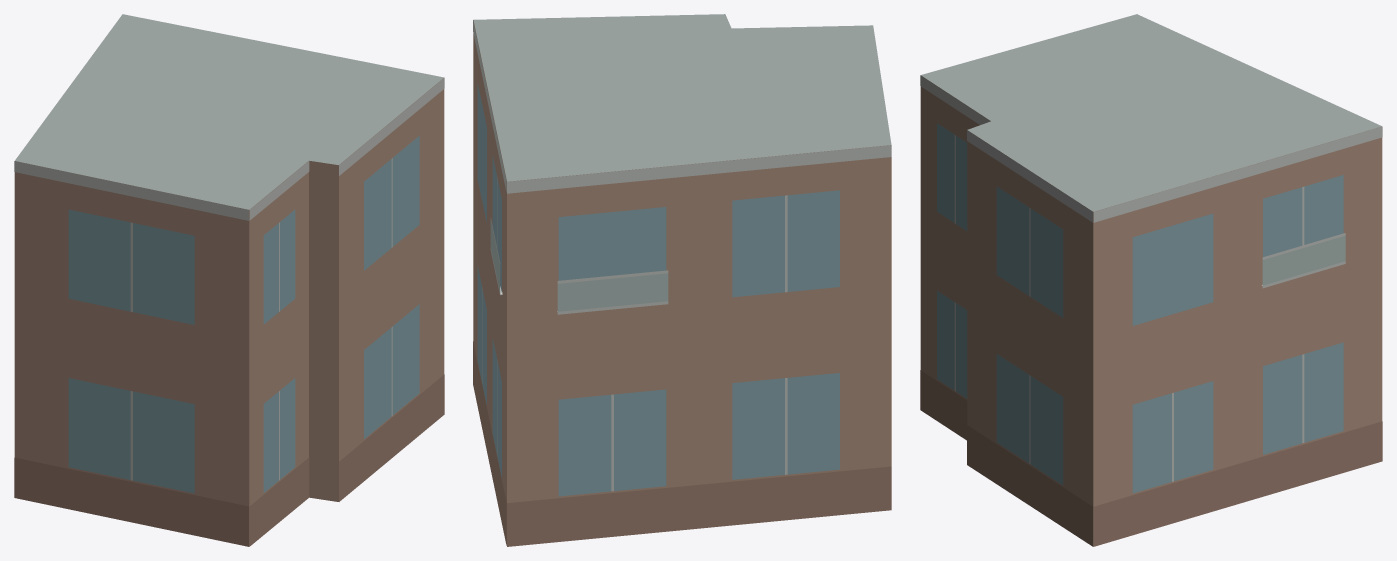
Rendered from survey-upis-32500609.glb.
3 renders of one model, left to right at view 1: azimuth 30°, elevation 25°; view 2: azimuth 150°, elevation 25°; view 3: azimuth 270°, elevation 25°, orthographic. The views are drawn at different scales.
Visible parts, largest first — view 1: survey-upis-32500609.tmp; view 2: survey-upis-32500609.tmp; view 3: survey-upis-32500609.tmp.
Part boxes in pixels (x1,y1,x2,y2): survey-upis-32500609.tmp: [14, 14, 444, 546]; survey-upis-32500609.tmp: [473, 14, 891, 546]; survey-upis-32500609.tmp: [920, 14, 1382, 546].
Bounding box in the file's own units: 9.38 × 7.4 × 9.26.
